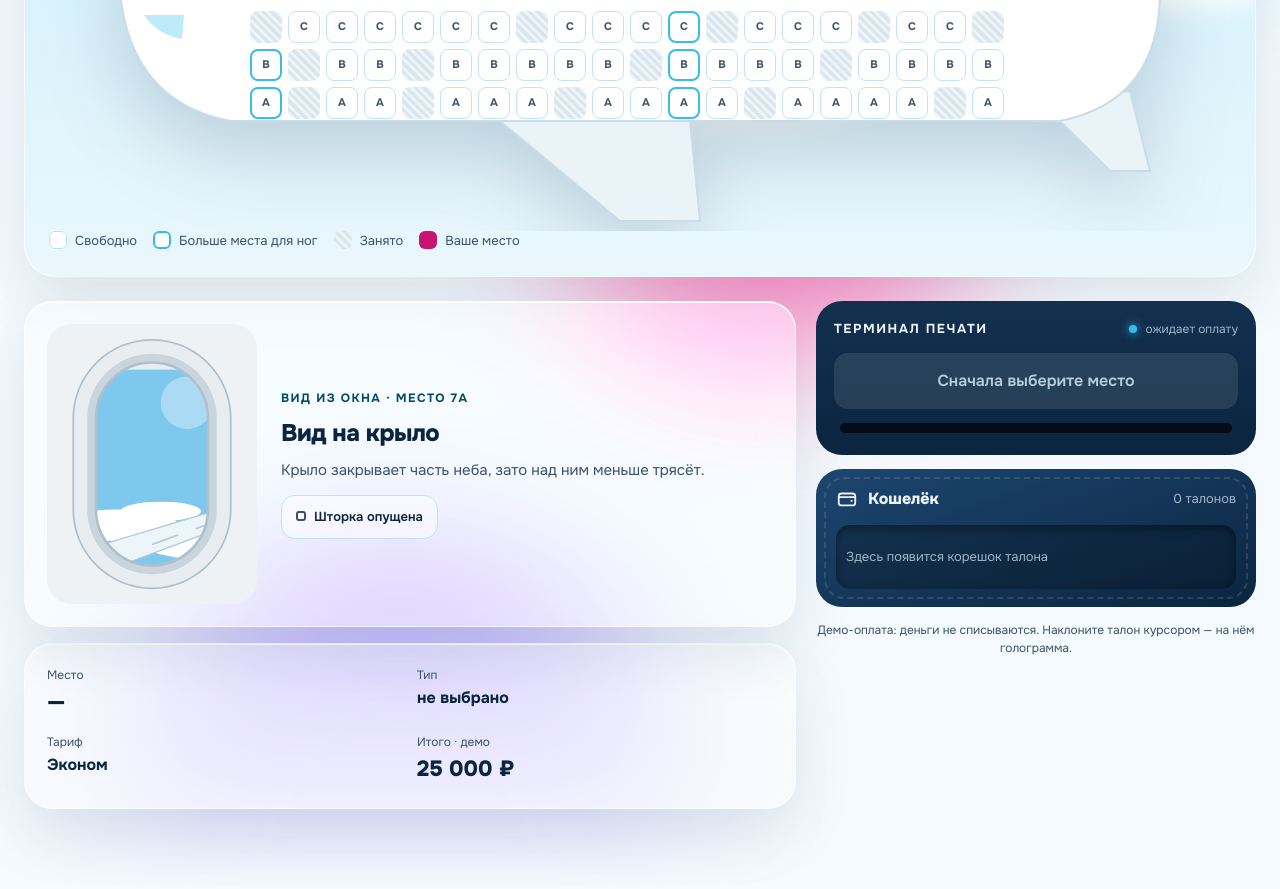
Test: Booking › toggles the window shade and remembers it
(page scrolled)
Click the button "Шторка опущена" at (359, 517), box [281, 495, 438, 539]
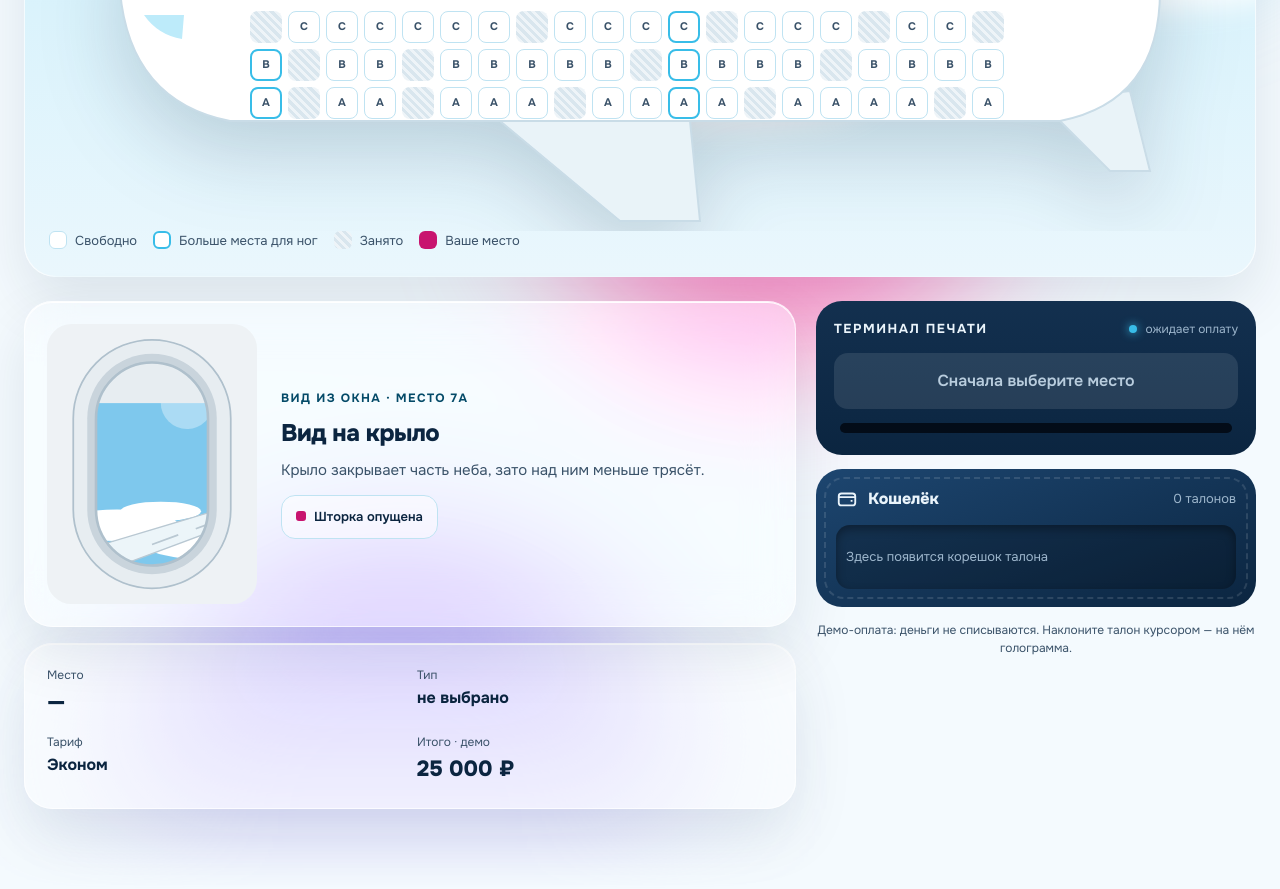
Check: the button "Шторка опущена" is pressed, box [281, 495, 438, 539]
